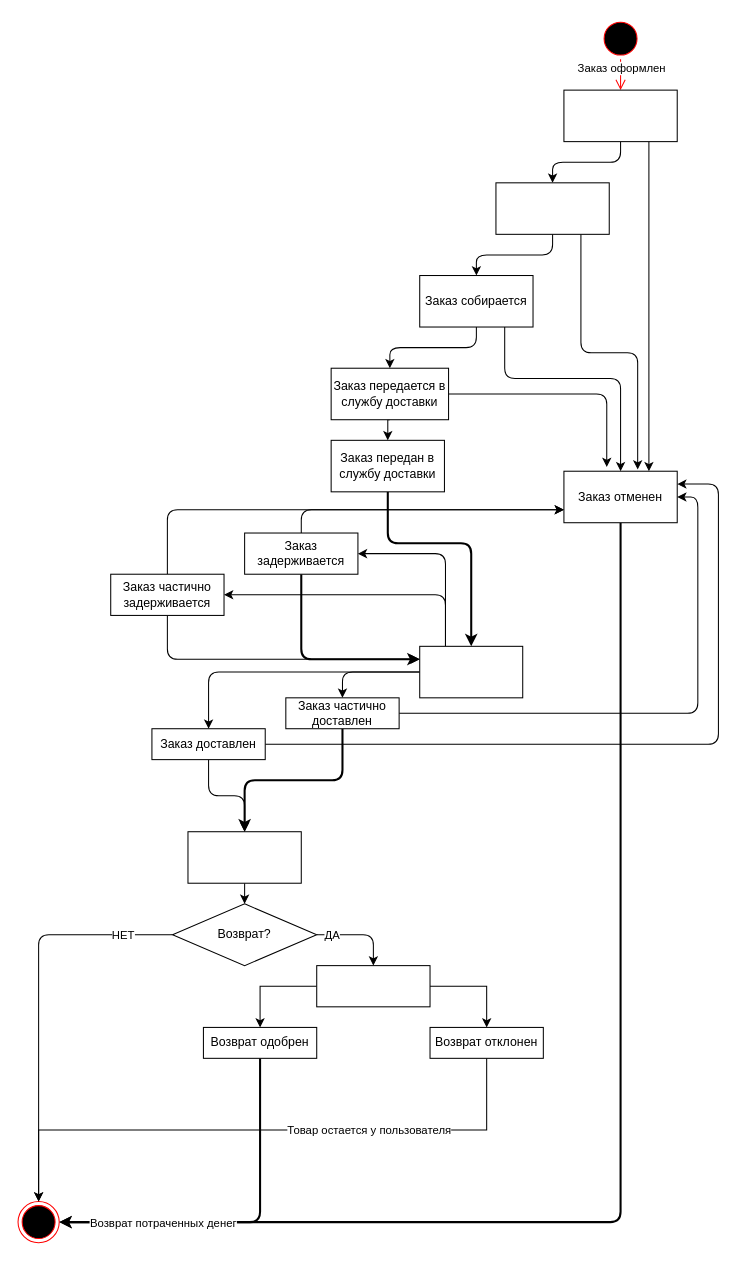
The diagram is 745 pixels wide and 1261 high, and some of its shapes have lost their labels. The centre of each missing label's shape, as x and y in pixels:
"Заказ в пути" belongs at point (471, 671).
"Заказ оформляется" belongs at point (620, 115).
"Заказ передан продавцу" belongs at point (552, 208).
"Заказ получен" belongs at point (244, 857).
"Проверка возврата" belongs at point (373, 986).
